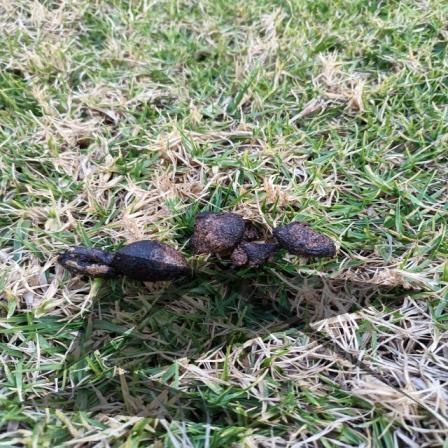dog-poop: (63, 212, 345, 278)
